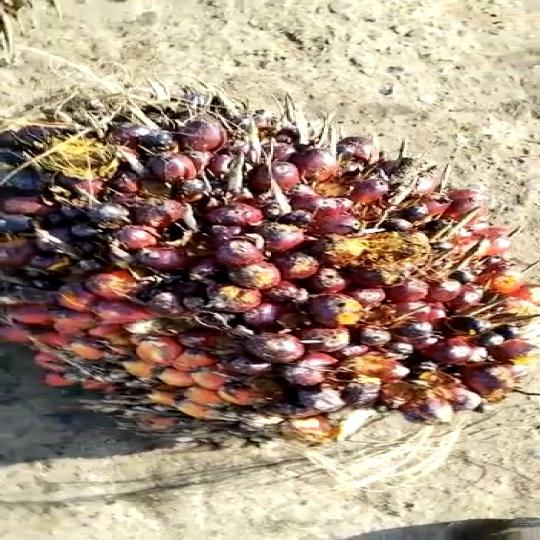masak: (0, 90, 540, 464)
